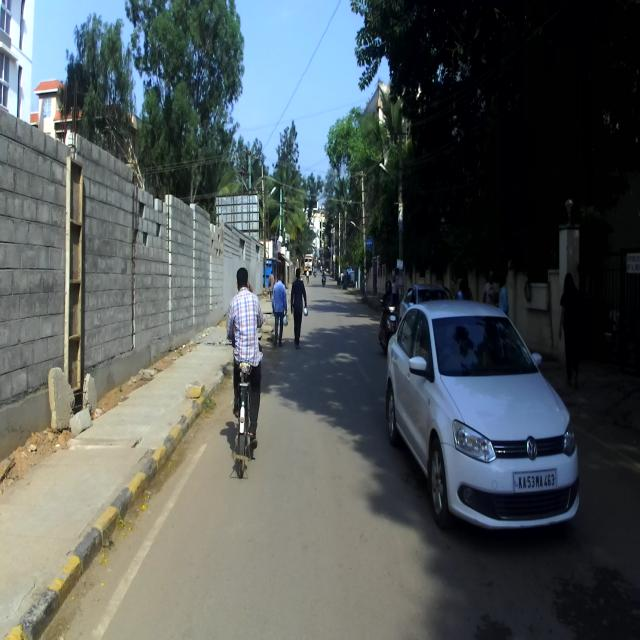bicycle ahead at: (227, 379, 262, 478)
car ahead at: (387, 301, 585, 543)
